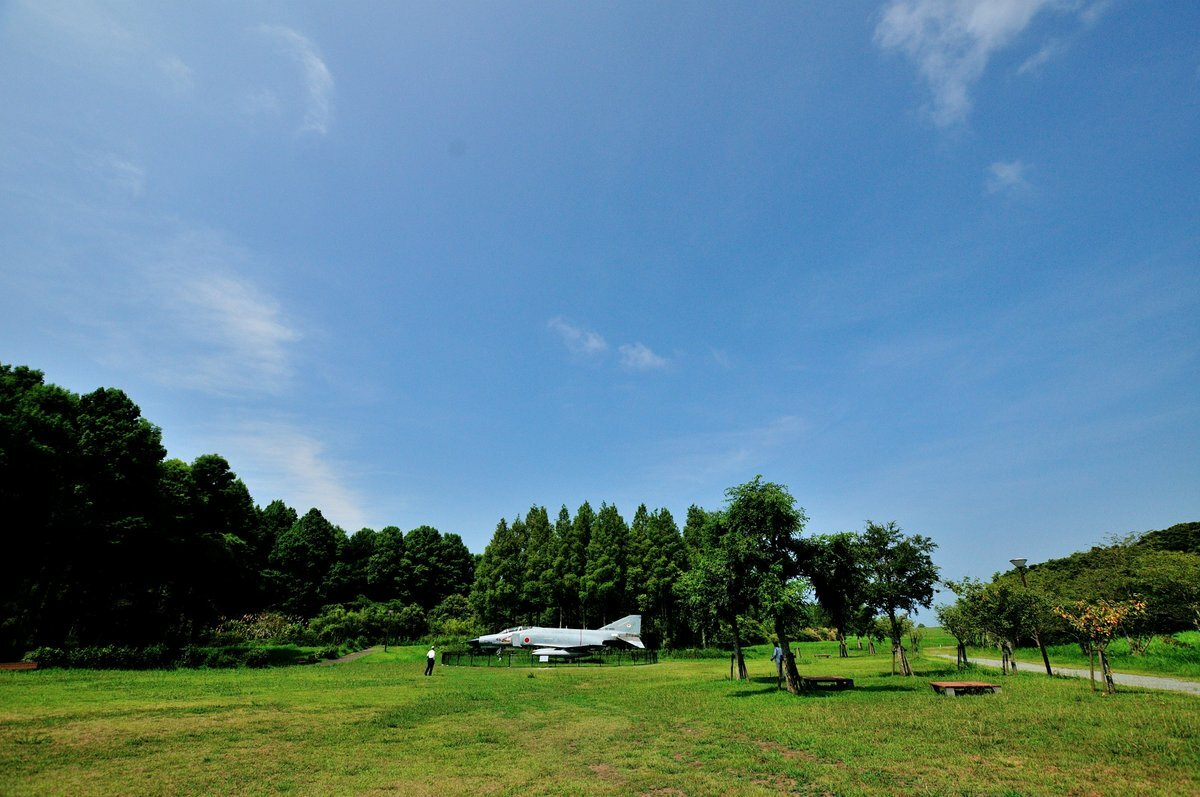F4: (460, 614, 646, 664)
